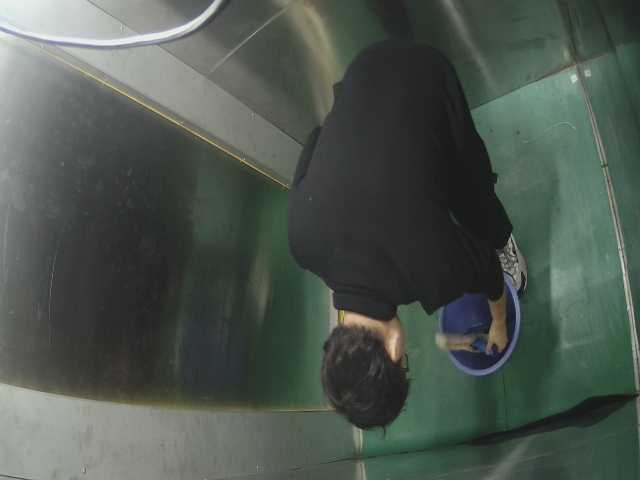bucket: (423, 276, 536, 380)
person: (270, 27, 525, 385)
